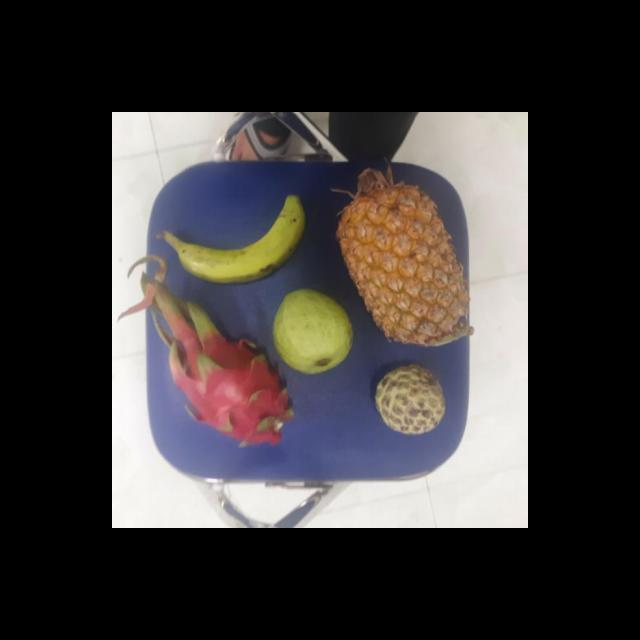Sakya fruit: (372, 365, 446, 434)
guava: (269, 292, 354, 374)
pineapple: (337, 176, 467, 347)
pitaya: (167, 332, 288, 449)
